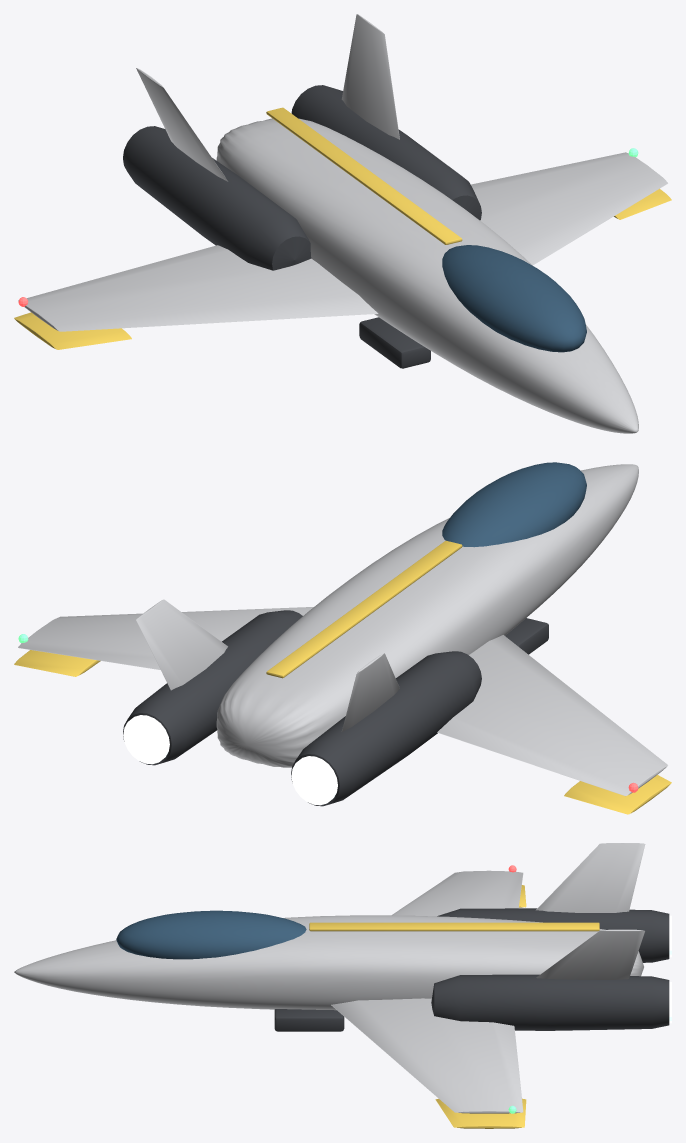
Rendered from ship_scout.glb.
3 views of the same model, one above another, from view 1: azimuth 30°, elevation 25°; view 2: azimuth 150°, elevation 25°; view 3: azimuth 270°, elevation 25° (orthographic). The views are drawn at different scales.
Visible parts, largest first — view 1: hull, canopy; view 2: hull, canopy, engine_glow; view 3: hull, canopy.
Part boxes in pixels (left/top/right/bottom): hull: left=14, top=14, right=671, bottom=433; canopy: left=442, top=245, right=586, bottom=352; hull: left=14, top=464, right=671, bottom=814; canopy: left=442, top=462, right=586, bottom=547; engine_glow: left=123, top=715, right=337, bottom=805; hull: left=14, top=843, right=669, bottom=1128; canopy: left=116, top=910, right=306, bottom=959.
Bounding box in the file's own units: 9.93 × 2.31 × 11.33.
